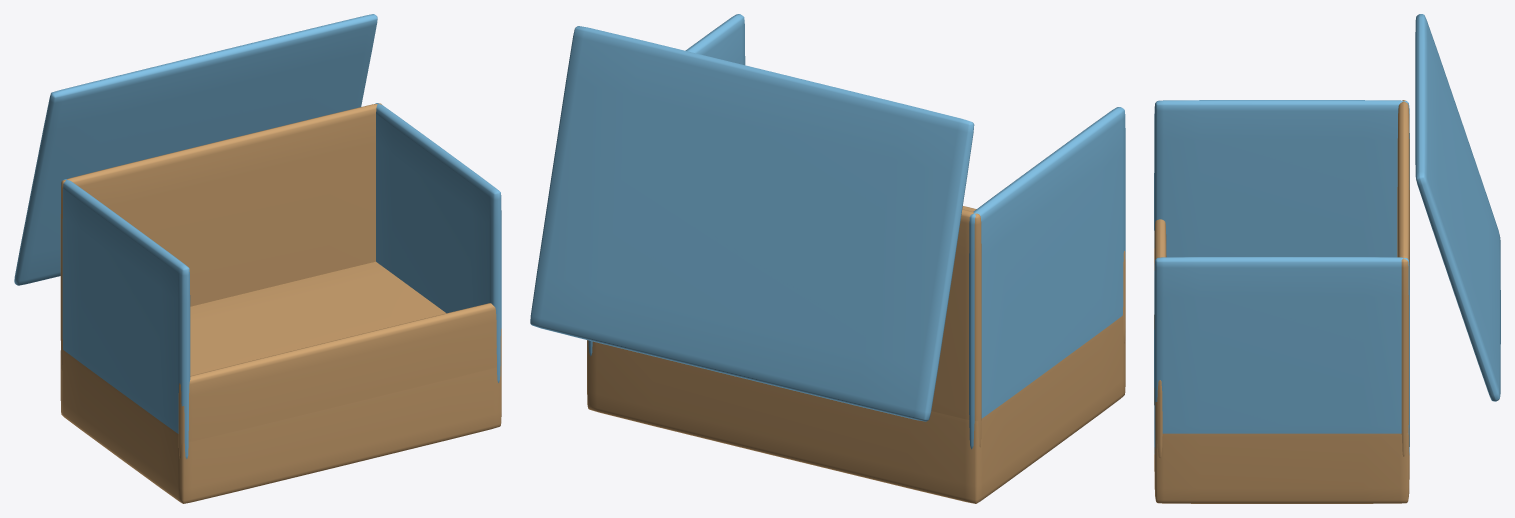
The model's file is toy_chest_box.glb.
3 views of the same model, side by side, from view 1: azimuth 30°, elevation 25°; view 2: azimuth 150°, elevation 25°; view 3: azimuth 270°, elevation 25° (orthographic). The views are drawn at different scales.
Visible parts, largest first — view 1: toy_chest_box; view 2: toy_chest_box; view 3: toy_chest_box.
Part boxes in pixels (box(x1,y1,x2,y2)): toy_chest_box: box(14, 14, 501, 503); toy_chest_box: box(530, 14, 1125, 503); toy_chest_box: box(1154, 14, 1500, 503).
Size of the model in its own units: 1.22 by 1.14 by 1.08.
